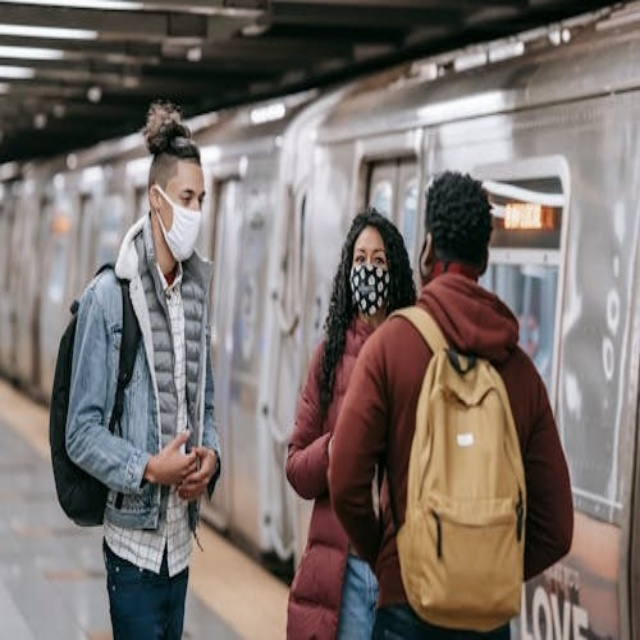Mascara: (153, 185, 202, 261), (349, 261, 391, 315)
Sin_gafas: (169, 177, 205, 202), (351, 244, 387, 263)
Sin_guantes: (150, 427, 198, 482), (179, 444, 217, 498)
